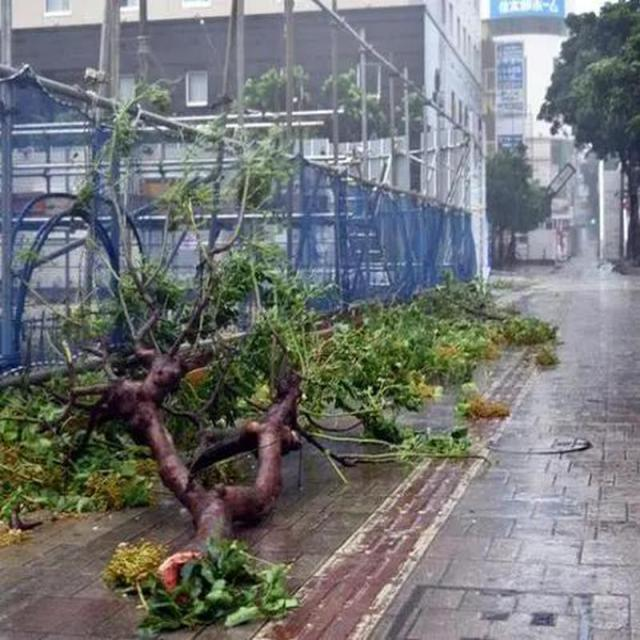tree_fallen: (42, 315, 262, 638), (287, 231, 477, 455)
